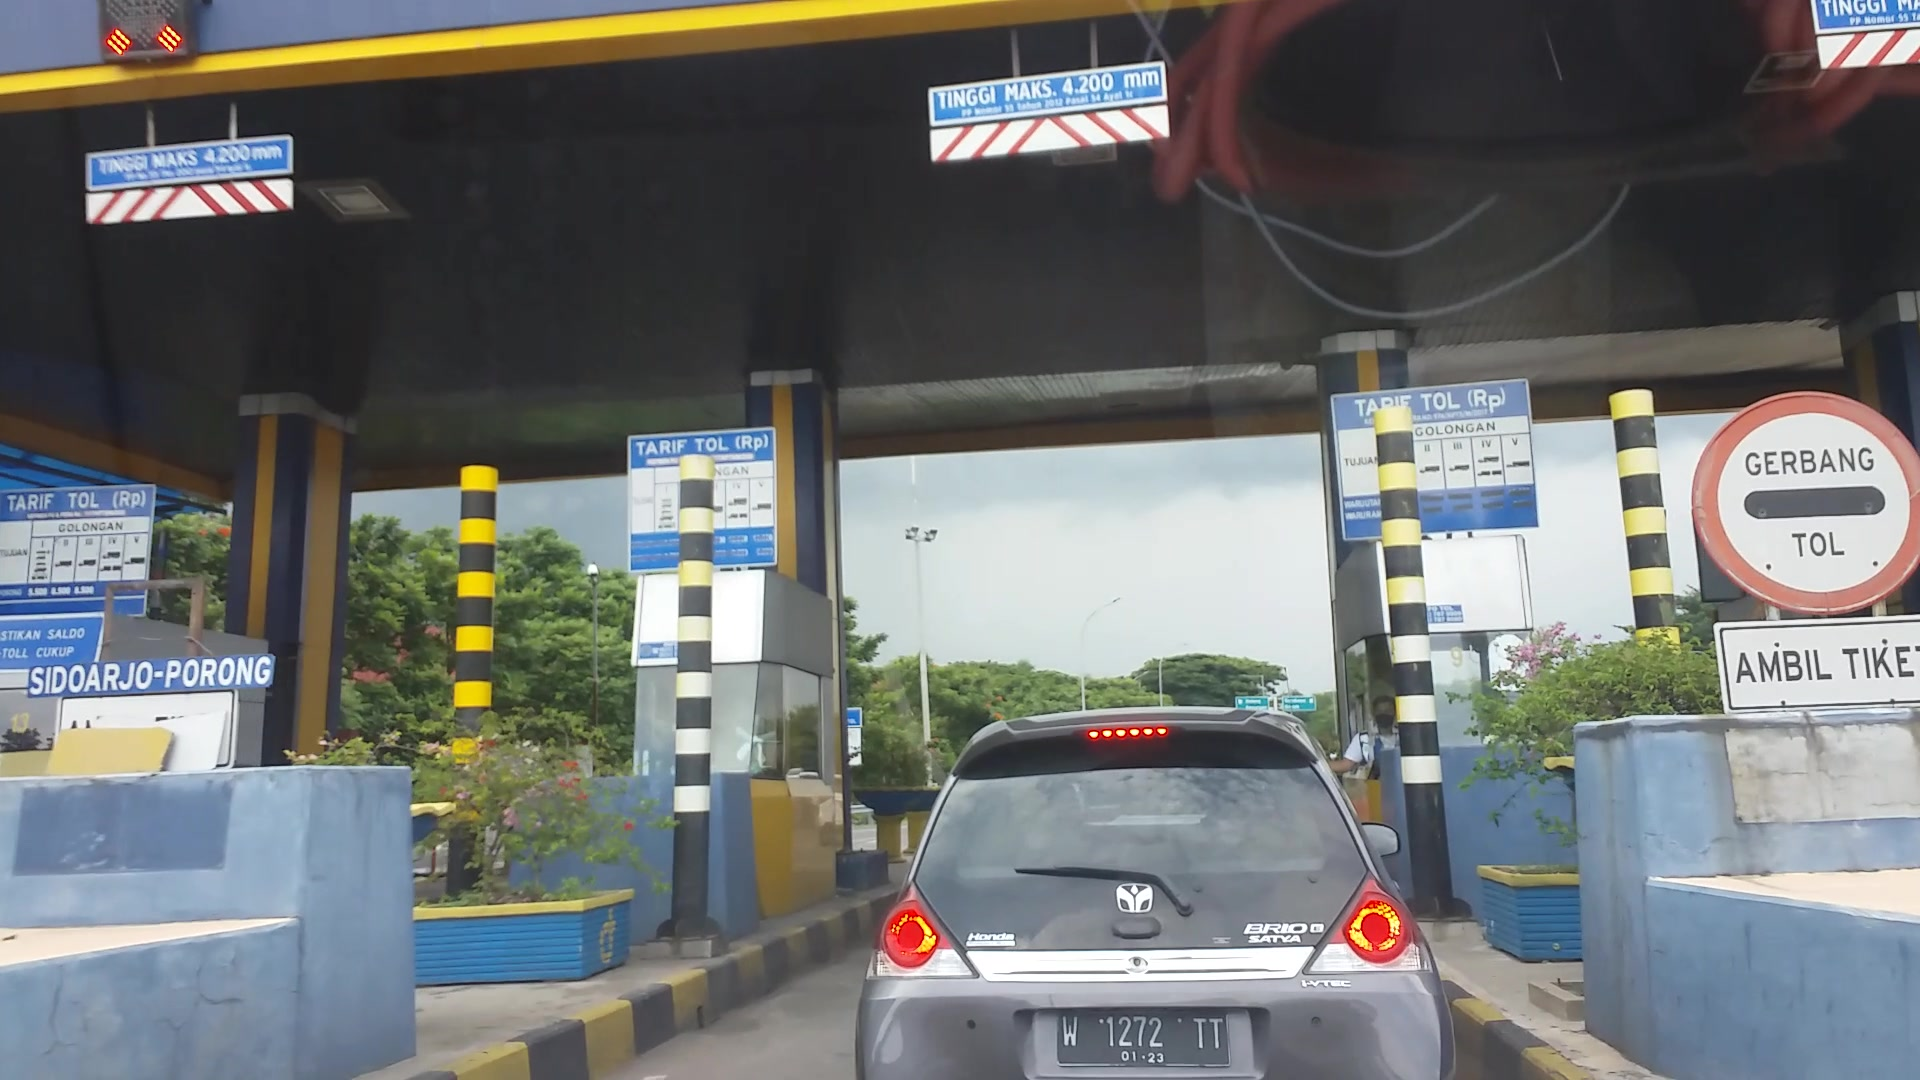plate_positive: (1056, 1007, 1230, 1065)
